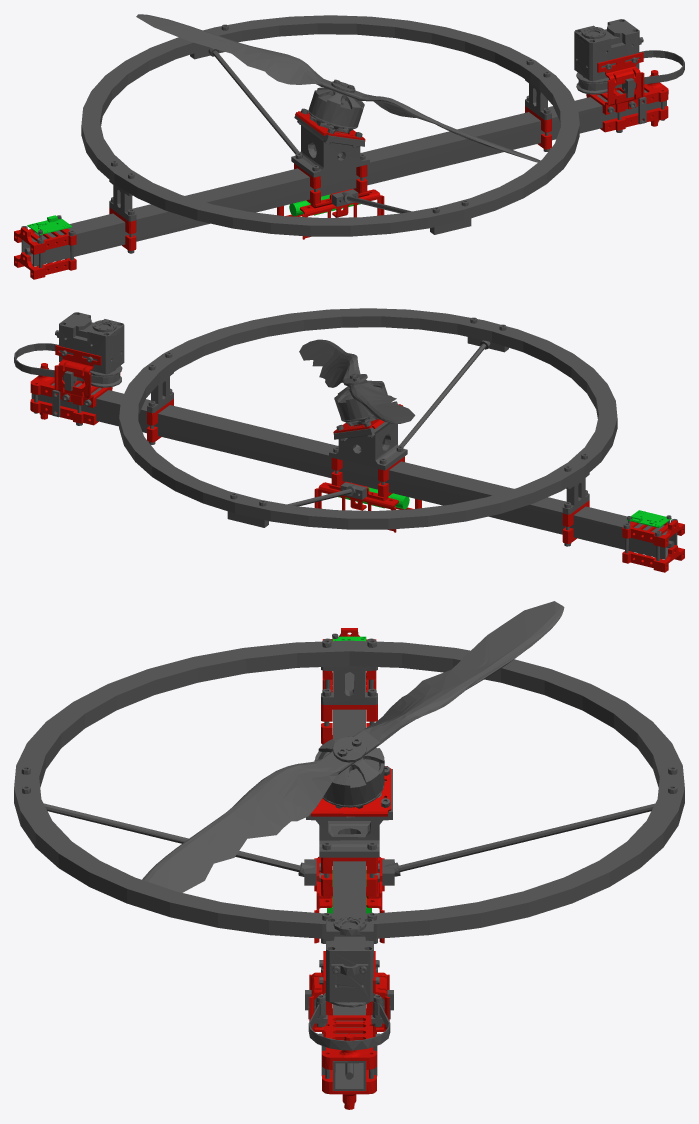
File: tilt_link1.dae
The picture shows the model from 3 angles, top to bottom: view 1: azimuth 30°, elevation 25°; view 2: azimuth 150°, elevation 25°; view 3: azimuth 270°, elevation 25°; orthographic projection. The views are drawn at different scales.
Visible parts, largest first — view 1: tilt_link1_balck_part, tilt_link1_red_part, link1_green_part; view 2: tilt_link1_balck_part, tilt_link1_red_part, link1_green_part; view 3: tilt_link1_balck_part, tilt_link1_red_part.
Boxes of the visible parts, left/top/right/bottom form: tilt_link1_balck_part: left=21, top=14, right=684, bottom=267; tilt_link1_red_part: left=14, top=52, right=668, bottom=279; link1_green_part: left=27, top=194, right=360, bottom=234; tilt_link1_balck_part: left=14, top=308, right=677, bottom=560; tilt_link1_red_part: left=30, top=345, right=684, bottom=572; link1_green_part: left=328, top=487, right=671, bottom=527; tilt_link1_balck_part: left=14, top=601, right=684, bottom=1093; tilt_link1_red_part: left=309, top=628, right=391, bottom=1109.
Size of the model in its own units: 0.6083 by 0.3997 by 0.1563.
